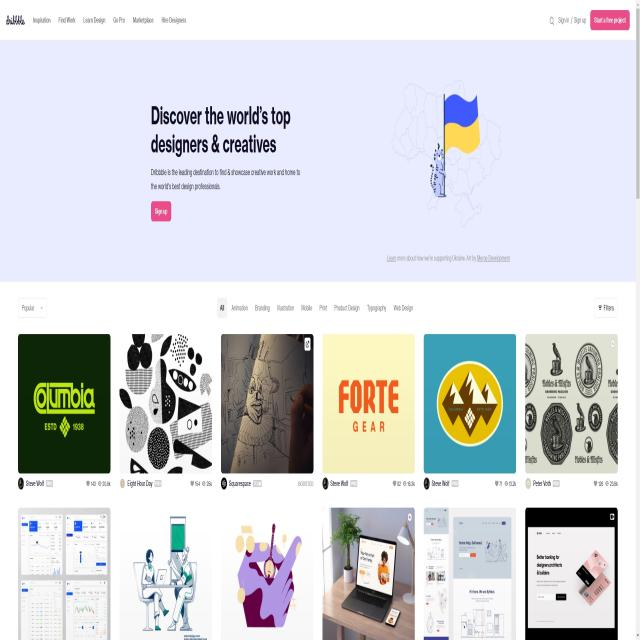menu-bar: (28, 6, 190, 31)
tab-bar: (217, 294, 419, 320)
